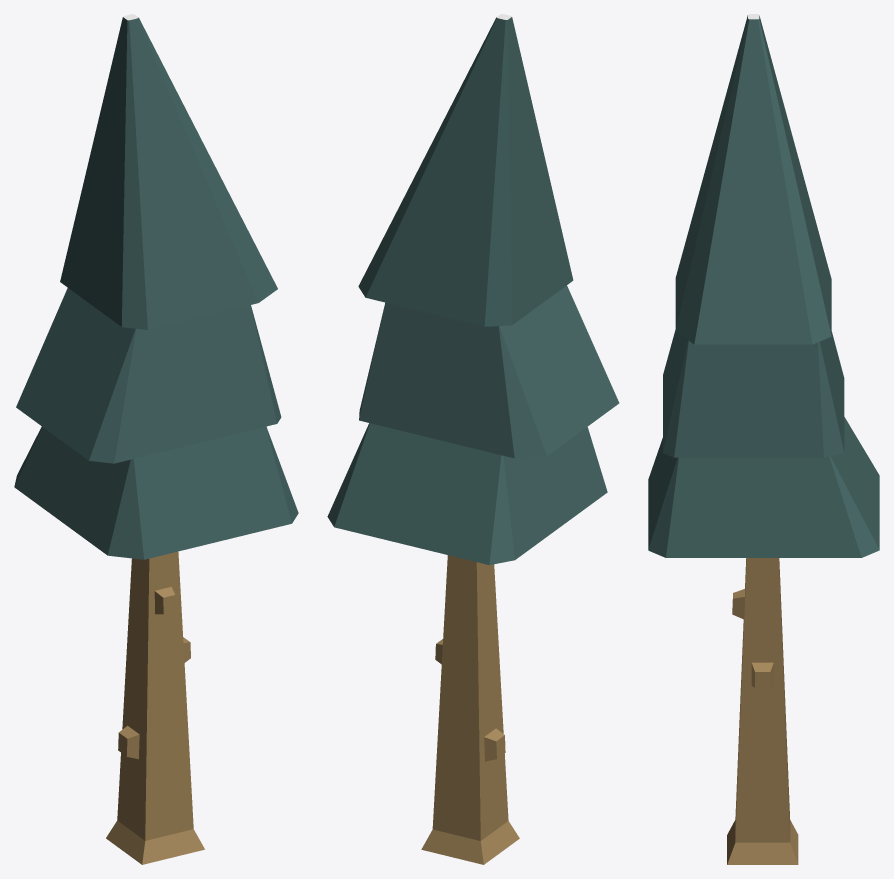
Rendered from naturePack_164.obj.
3 views of the same model, side by side, from view 1: azimuth 30°, elevation 25°; view 2: azimuth 150°, elevation 25°; view 3: azimuth 270°, elevation 25° (orthographic). The views are drawn at different scales.
Visible parts, largest first — view 1: Mesh1_Group1_Model.080; view 2: Mesh1_Group1_Model.080; view 3: Mesh1_Group1_Model.080.
Boxes of the visible parts, box(x1,y1,x2,y2) form: Mesh1_Group1_Model.080: box(14, 14, 298, 864); Mesh1_Group1_Model.080: box(327, 14, 619, 864); Mesh1_Group1_Model.080: box(648, 14, 879, 864).
Size of the model in its own units: 1.55 by 6.12 by 1.57.
